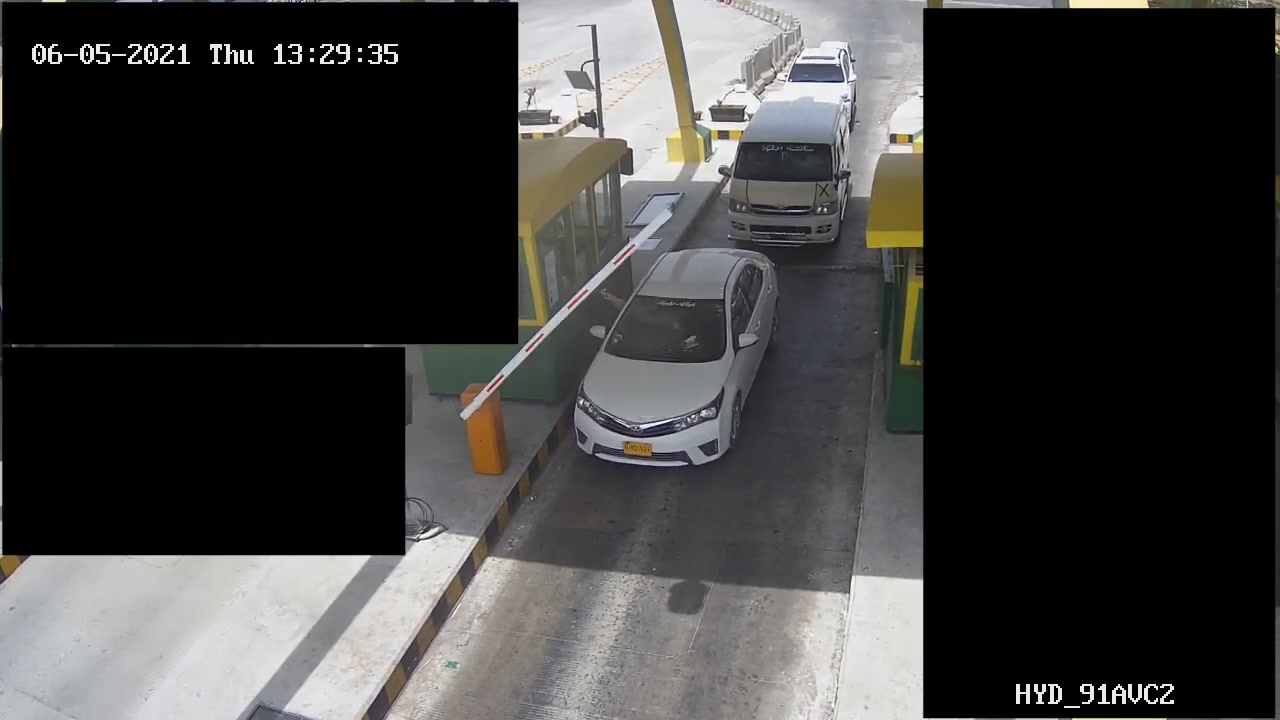F2: (718, 88, 859, 247)
